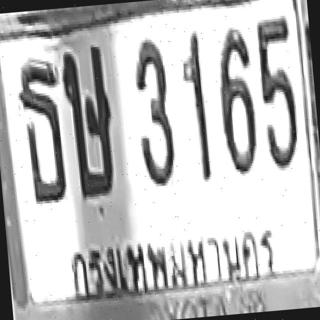A24: (14, 58, 68, 205)
A39: (59, 43, 117, 198)
N01: (177, 32, 212, 182)
N03: (130, 36, 177, 188)
N05: (255, 16, 301, 170)
N06: (213, 26, 258, 175)
P04: (57, 213, 282, 302)
